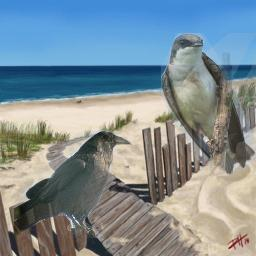Crow: (14, 130, 132, 238)
Swallow: (161, 33, 256, 176)
